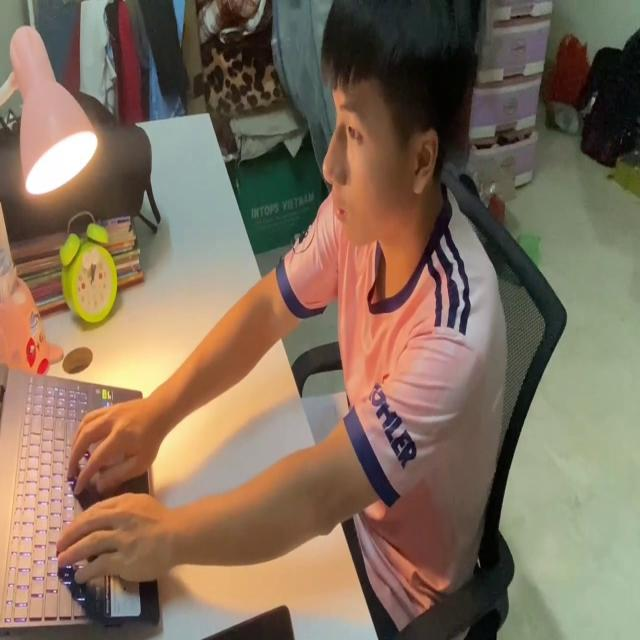book: (298, 386, 346, 437)
laptop: (0, 358, 161, 630)
student: (56, 0, 503, 617)
